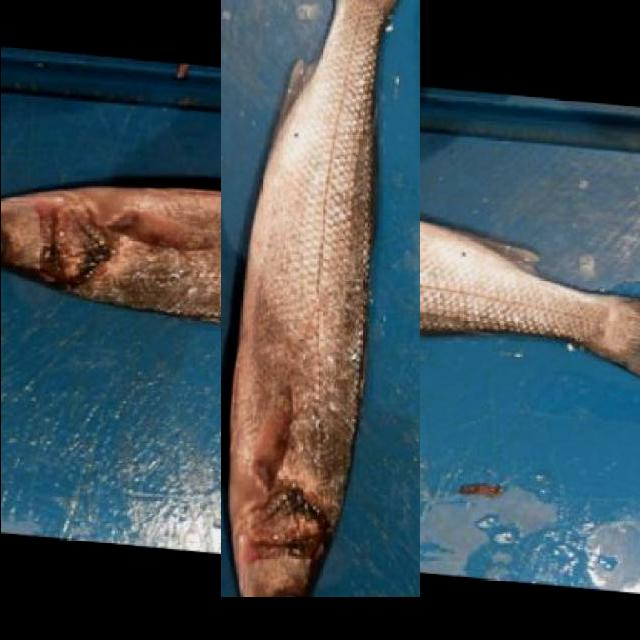Healthy Fish: (110, 68, 529, 488)
